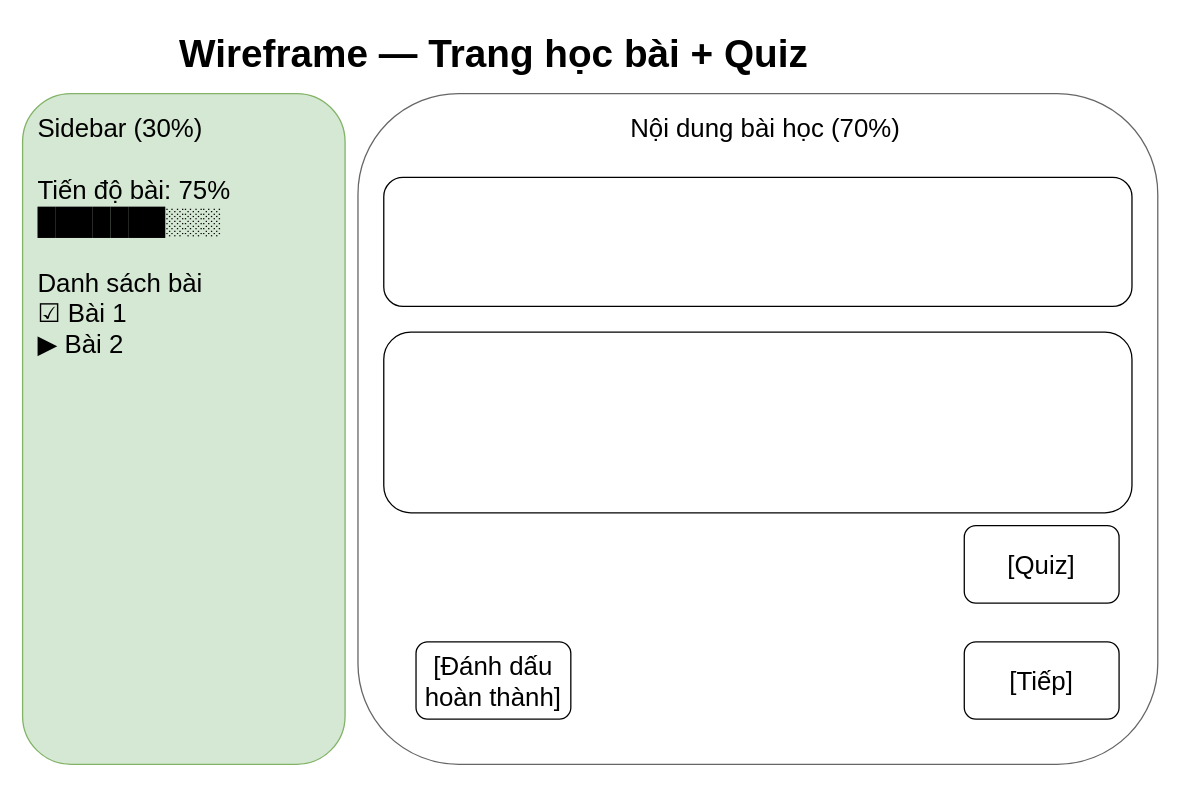
This 1180x787 diagram has some shape labels left out. Here are the shapes that lost their labels. From the top down, the centre of each, then its label:
At point 757,241: "[Video / Media player]".
At point 757,422: "Nội dung text bài học... Kanji, ví dụ, giải thích".
